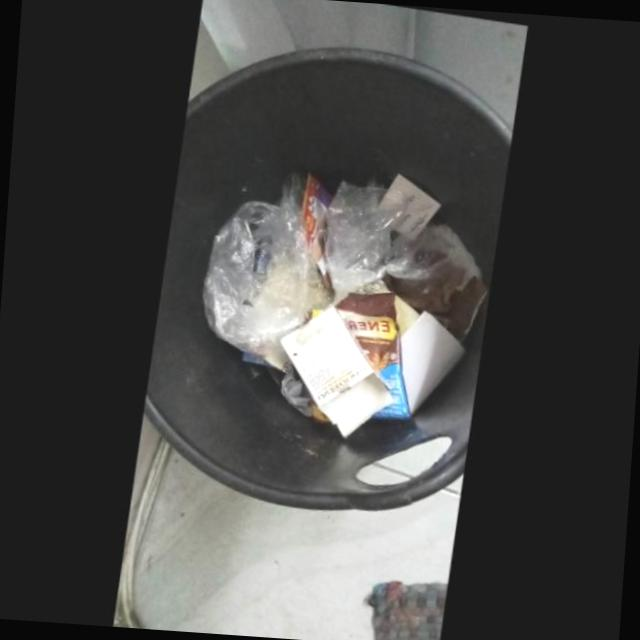bao_bi_thuc_pham: (337, 291, 414, 419)
carton: (282, 307, 396, 437)
tui_ni_long: (202, 169, 481, 420)
